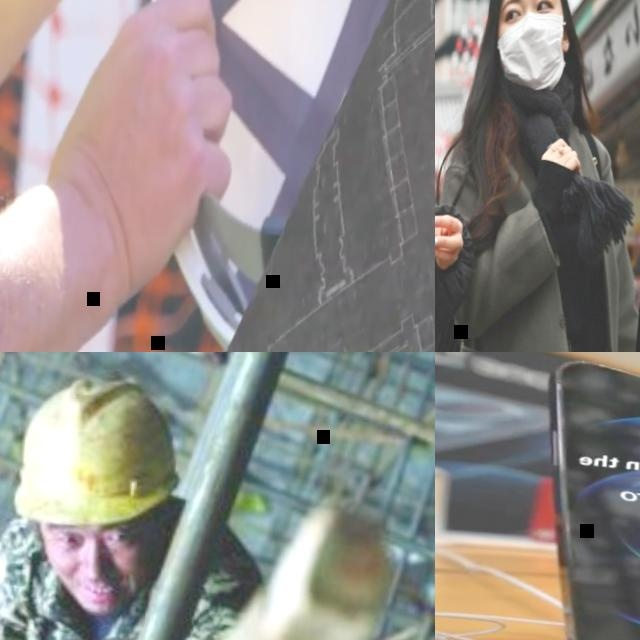Hardhat: (112, 0, 435, 352), (7, 369, 191, 537)
Mask: (489, 5, 569, 97)
NO-Mask: (40, 538, 157, 619)
NO-Safety Vest: (435, 98, 640, 352), (0, 522, 220, 640)
Person: (0, 0, 290, 352), (0, 357, 331, 640), (435, 0, 640, 352), (435, 0, 508, 352)
